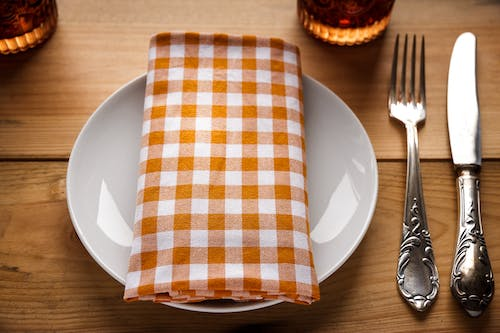knife: (445, 30, 497, 319)
